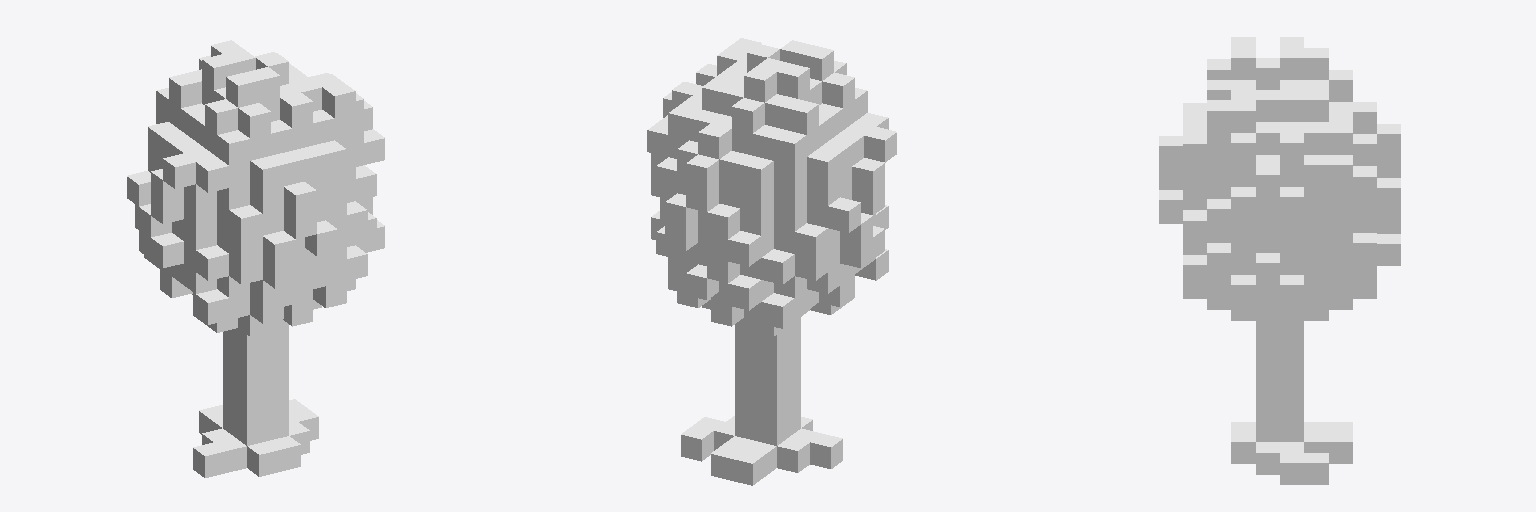
Rendered from tree_small_1.obj.
3 renders of one model, left to right at view 1: azimuth 30°, elevation 25°; view 2: azimuth 150°, elevation 25°; view 3: azimuth 270°, elevation 25°, orthographic.
Parts seen in each view (by area): view 1: object 1; view 2: object 1; view 3: object 1.
Part boxes in pixels (bbox=[...]): object 1: bbox=[127, 40, 384, 477]; object 1: bbox=[647, 38, 896, 485]; object 1: bbox=[1159, 37, 1400, 484].
Bounding box in the file's own units: 1 × 1.8 × 1.